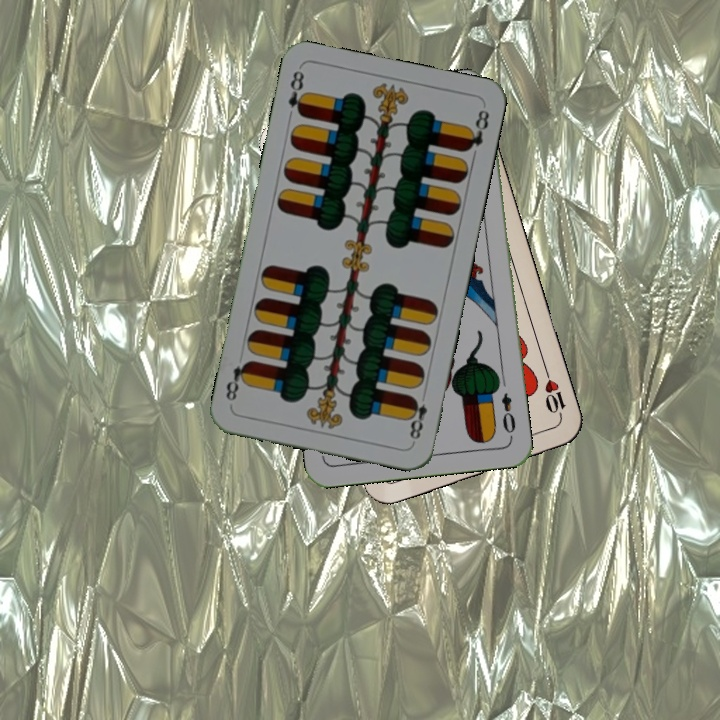E8: (284, 66, 310, 120), (404, 393, 430, 445)
EO: (497, 389, 519, 441)
H10: (540, 366, 568, 424)
